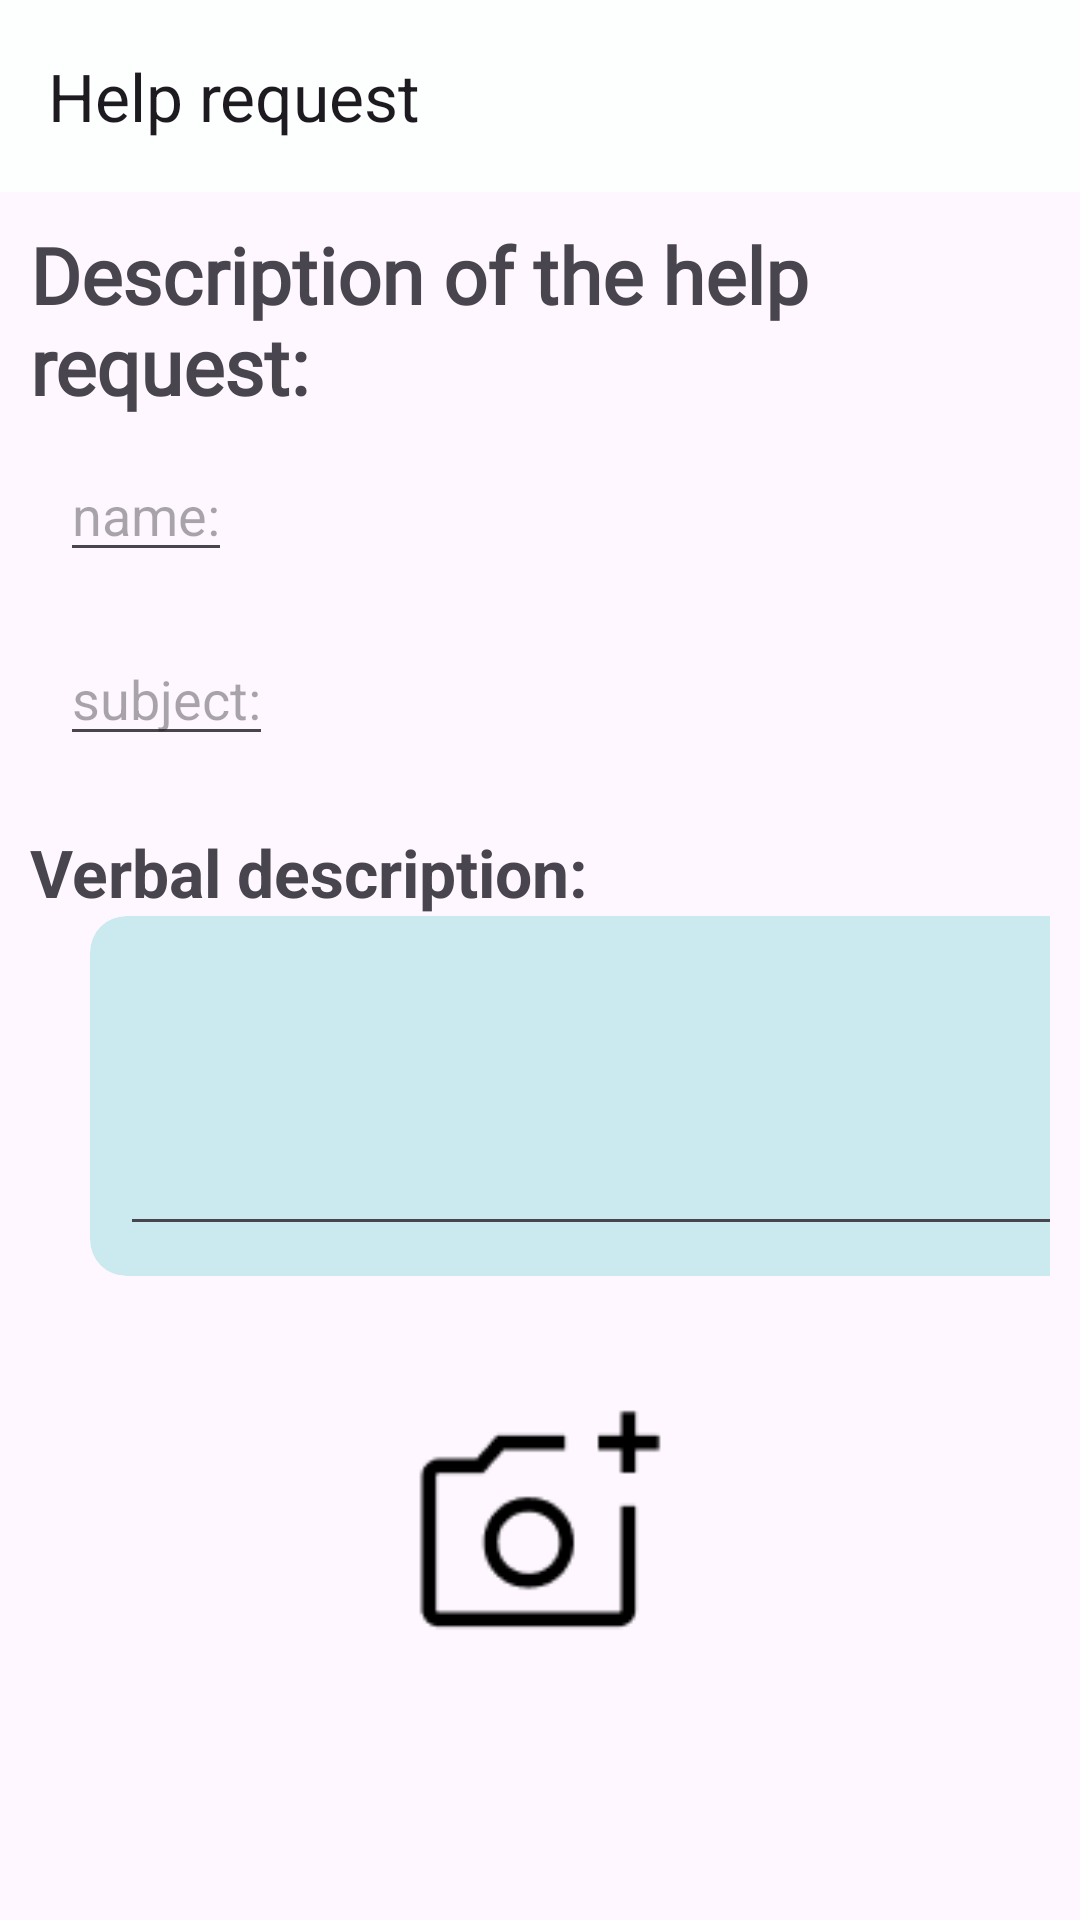

Locate icon controls on the screen. Image size 1080 × 1920, boxes as (x1, y1, x2, y2).
add photo: (419, 1410, 661, 1628)
